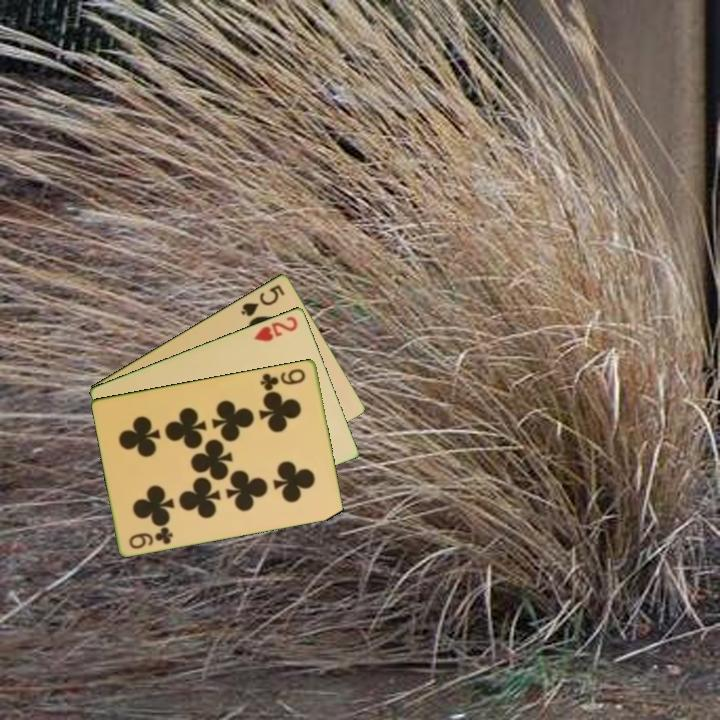2h: (250, 312, 301, 344)
5s: (237, 281, 288, 319)
9c: (257, 365, 308, 393), (126, 523, 176, 551)
